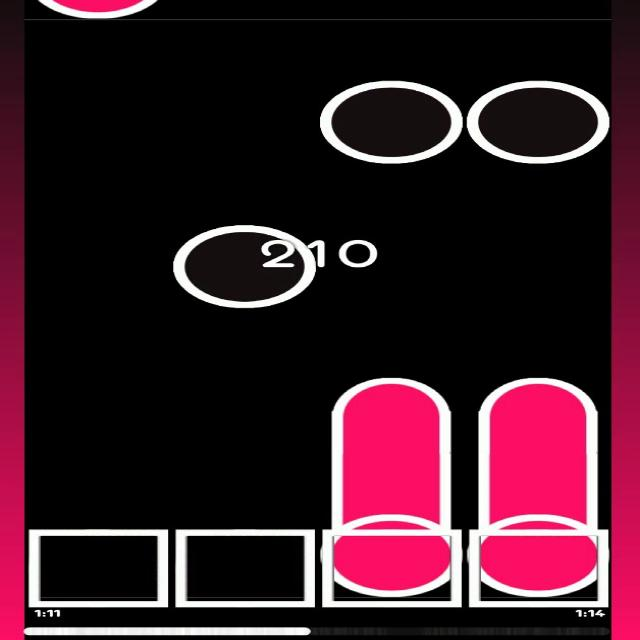end_hold: (478, 368, 598, 426), (330, 369, 446, 424)
note: (464, 78, 610, 163), (318, 78, 463, 163), (175, 221, 313, 309)
start_hold: (327, 500, 462, 598), (478, 497, 602, 596)
